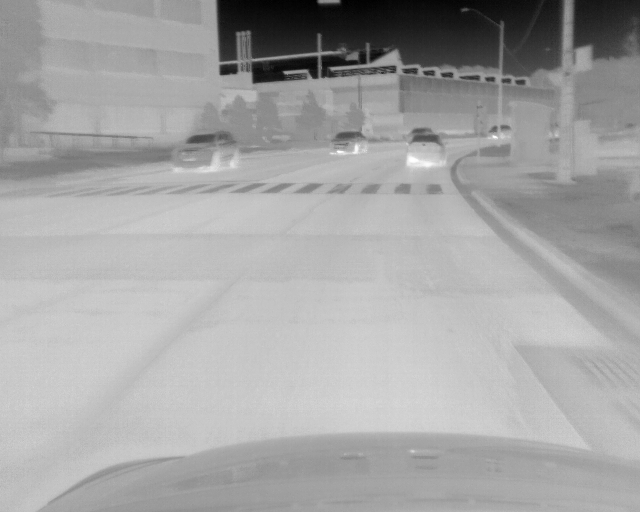car: (172, 130, 241, 175), (405, 135, 448, 168), (329, 129, 367, 155), (487, 124, 513, 142)
